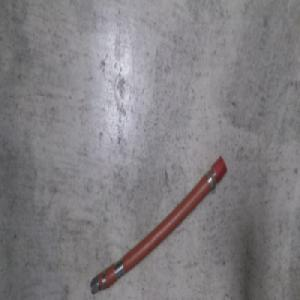Hose: (88, 152, 228, 296)
